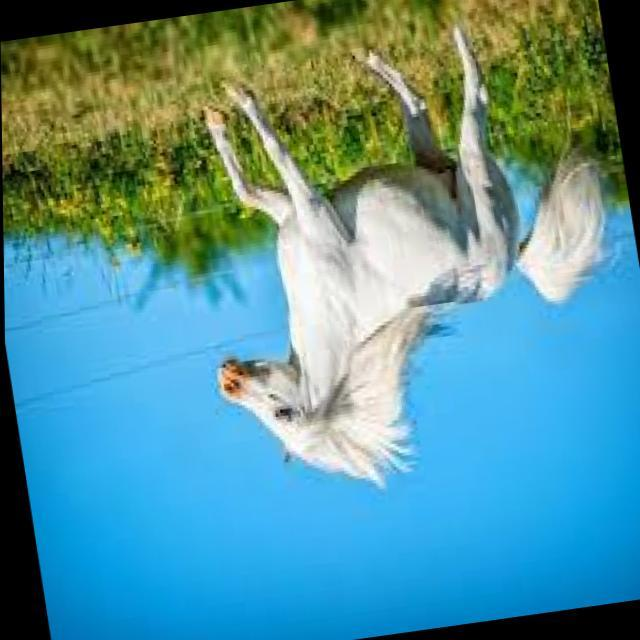horse: (166, 27, 570, 378)
